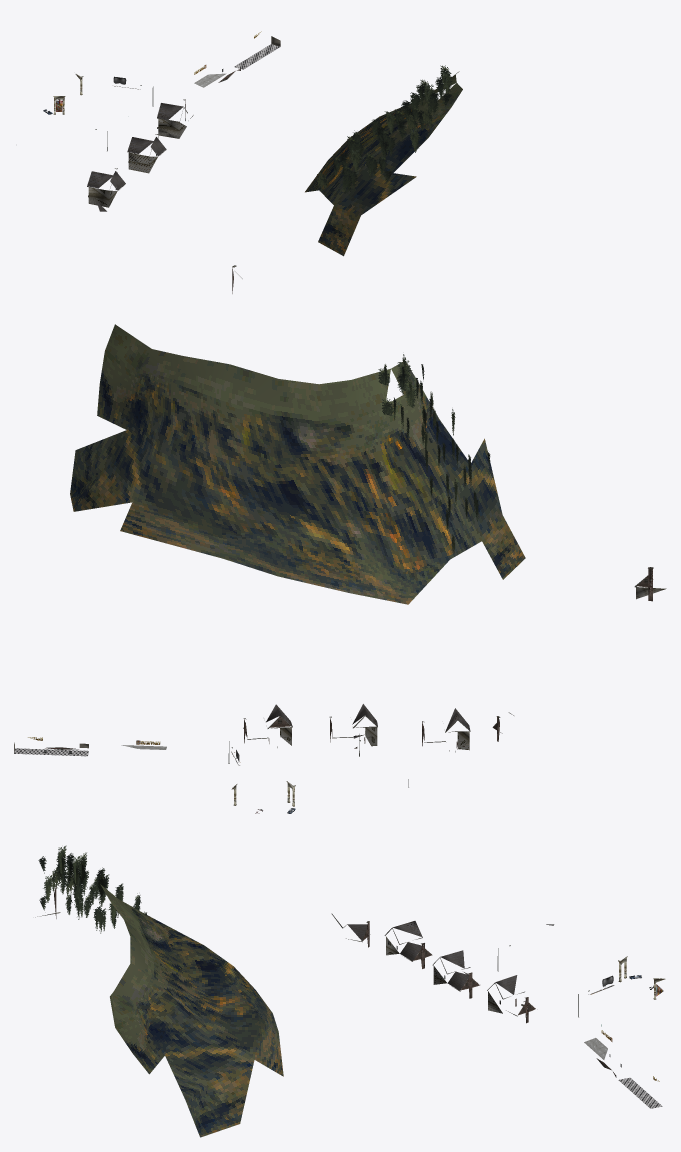
File: world_camden_10_-8.gltf
3 renders of one model, top to bottom at view 1: azimuth 30°, elevation 25°; view 2: azimuth 150°, elevation 25°; view 3: azimuth 270°, elevation 25°, orthographic. The views are drawn at different scales.
Size of the model in its own units: 259 by 105 by 271.
Materials: 25 (25 with a texture image).
